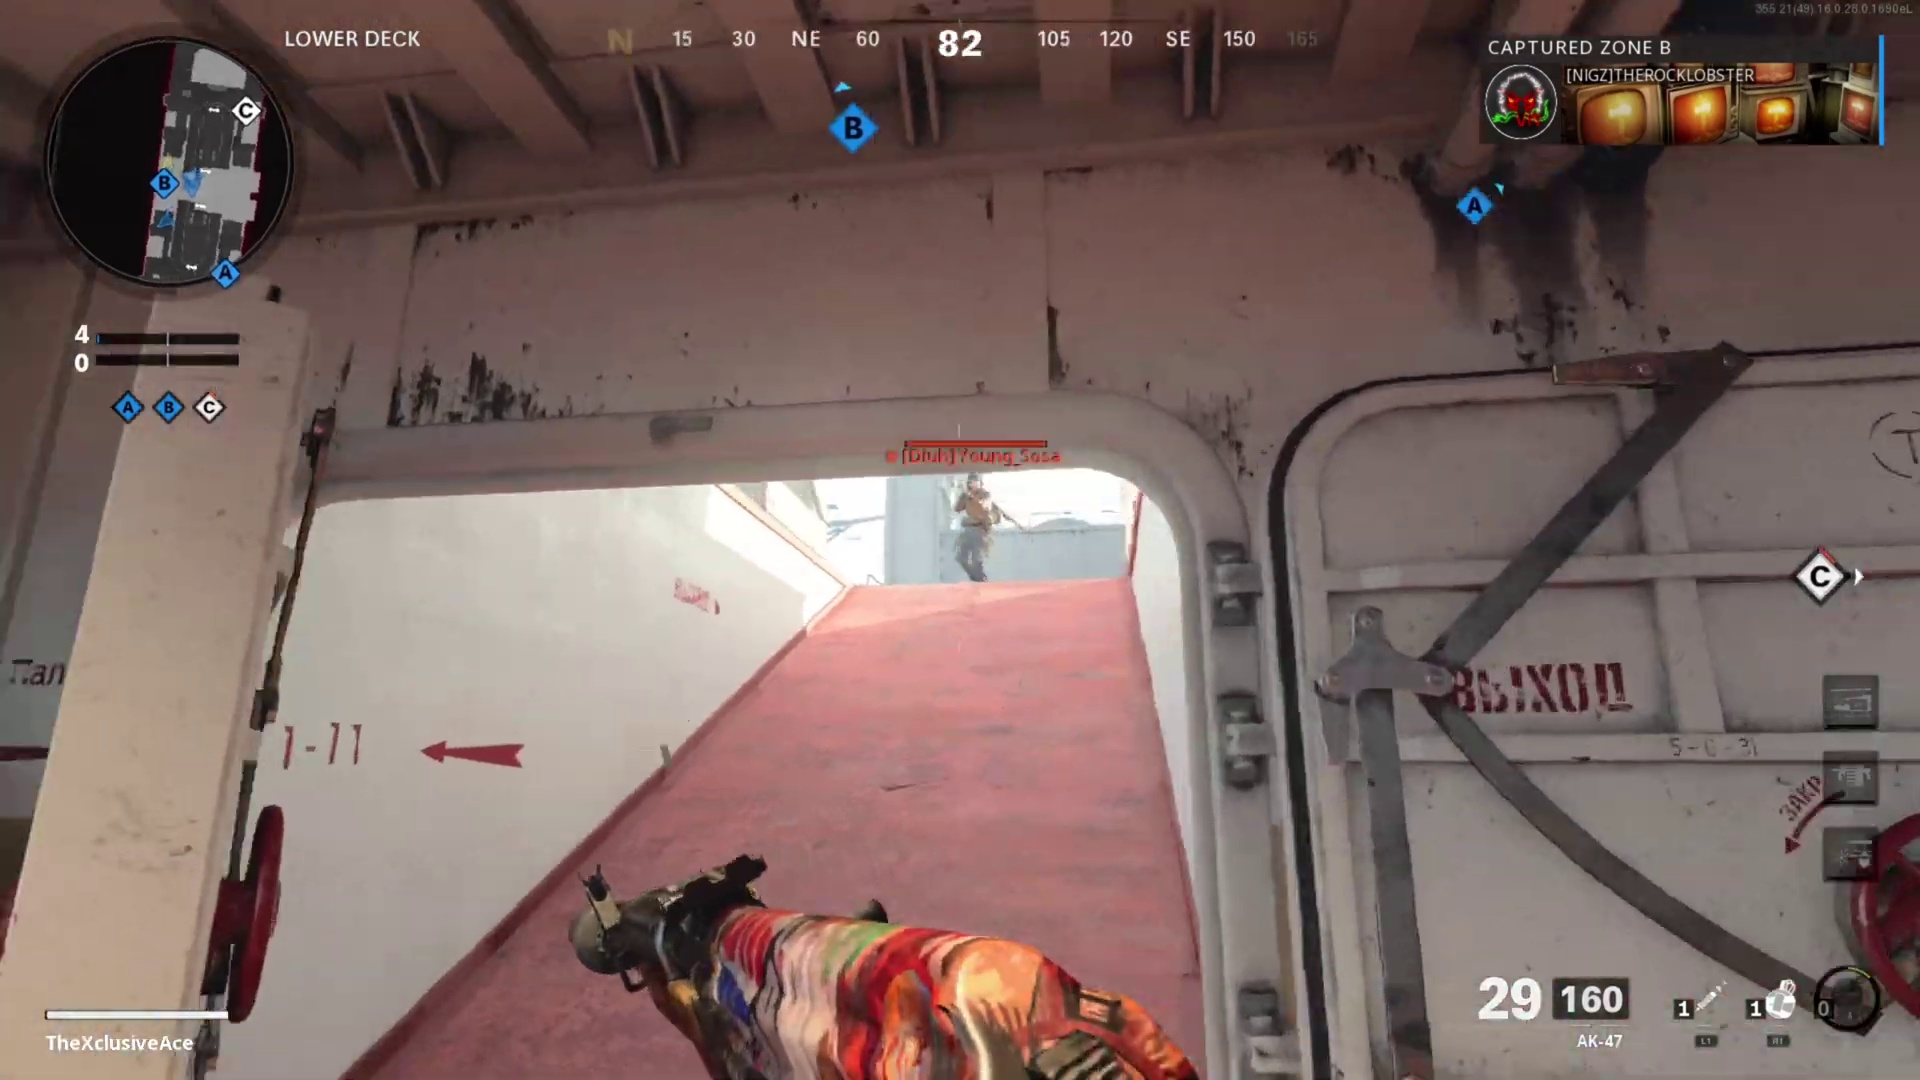head: (962, 473, 988, 498)
person: (947, 472, 1007, 580)
